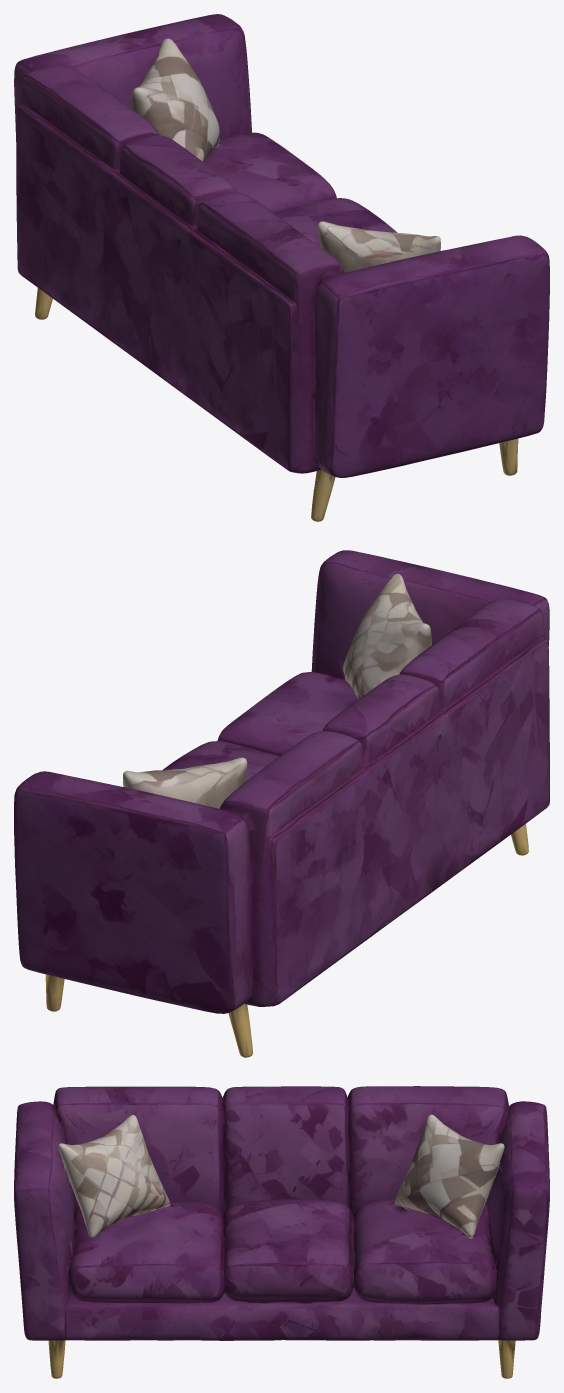
The model's file is sofa.glb.
3 views of the same model, one above another, from view 1: azimuth 30°, elevation 25°; view 2: azimuth 150°, elevation 25°; view 3: azimuth 270°, elevation 25° (orthographic). The views are drawn at different scales.
Visible parts, largest first — view 1: tripo_node_5886c06e-edca-4b50-ad25-f06a7b8a51ce; view 2: tripo_node_5886c06e-edca-4b50-ad25-f06a7b8a51ce; view 3: tripo_node_5886c06e-edca-4b50-ad25-f06a7b8a51ce.
Boxes of the visible parts, left/top/right/bottom form: tripo_node_5886c06e-edca-4b50-ad25-f06a7b8a51ce: left=14, top=14, right=549, bottom=521; tripo_node_5886c06e-edca-4b50-ad25-f06a7b8a51ce: left=14, top=550, right=549, bottom=1057; tripo_node_5886c06e-edca-4b50-ad25-f06a7b8a51ce: left=14, top=1086, right=549, bottom=1378.
Bounding box in the file's own units: 0.4258 × 0.4327 × 0.9997.
1 material, 1 textured.
